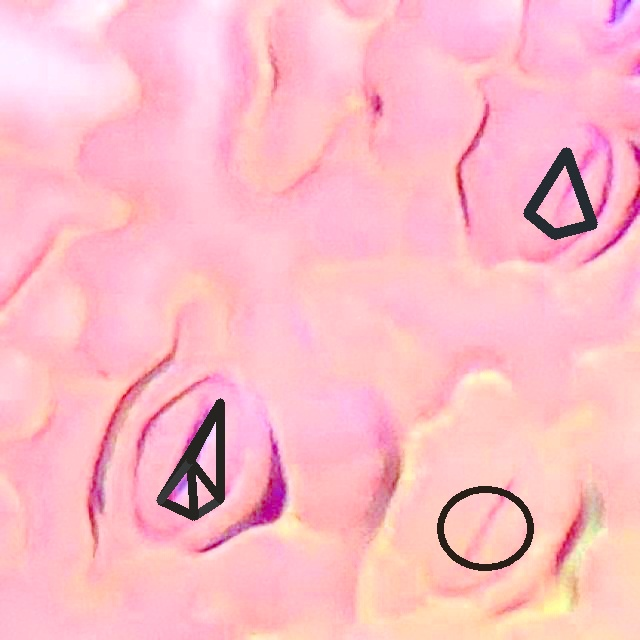close: (436, 485, 533, 571), (524, 147, 597, 239)
open: (156, 399, 223, 520)
